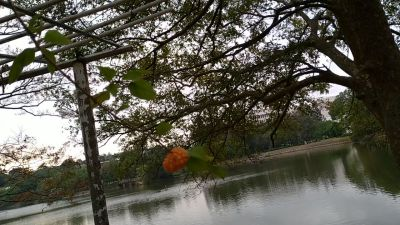eggs: (162, 144, 189, 174)
